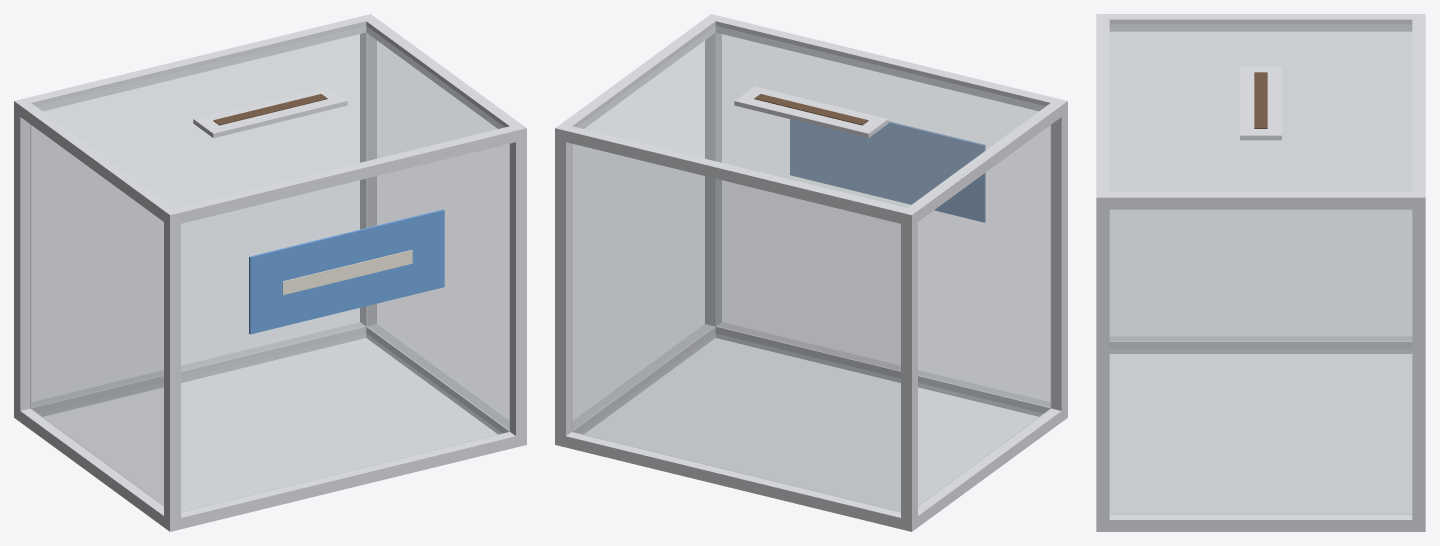
Rendered from donation-box.glb.
3 views of the same model, side by side, from view 1: azimuth 30°, elevation 25°; view 2: azimuth 150°, elevation 25°; view 3: azimuth 270°, elevation 25° (orthographic). The views are drawn at different scales.
Visible parts, largest first — view 1: DonationBox; view 2: DonationBox; view 3: DonationBox.
Boxes of the visible parts, left/top/right/bottom form: DonationBox: left=14, top=14, right=526, bottom=531; DonationBox: left=555, top=14, right=1067, bottom=531; DonationBox: left=1096, top=14, right=1425, bottom=531.
Bounding box in the file's own units: 1.65 × 1.42 × 1.25.
